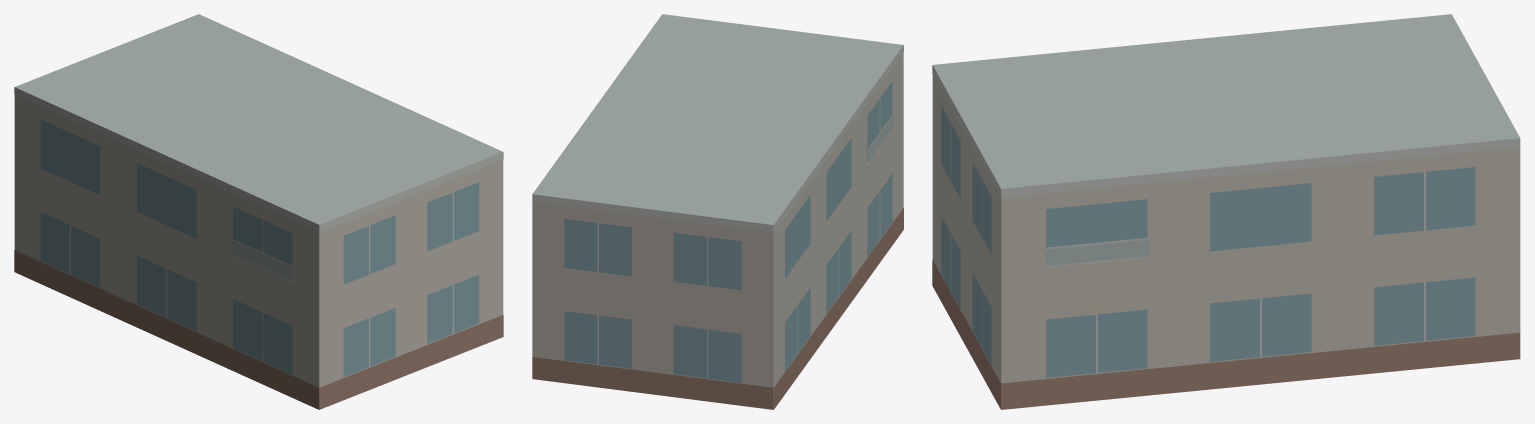
Rendered from survey-upis-32710411.glb.
3 renders of one model, left to right at view 1: azimuth 30°, elevation 25°; view 2: azimuth 150°, elevation 25°; view 3: azimuth 270°, elevation 25°, orthographic. The views are drawn at different scales.
Visible parts, largest first — view 1: survey-upis-32710411.tmp; view 2: survey-upis-32710411.tmp; view 3: survey-upis-32710411.tmp.
Boxes of the visible parts, box(x1,y1,x2,y2) form: survey-upis-32710411.tmp: box(14, 14, 503, 409); survey-upis-32710411.tmp: box(532, 14, 903, 409); survey-upis-32710411.tmp: box(932, 14, 1520, 409).
Size of the model in its own units: 10.37 by 6.1 by 14.72.
